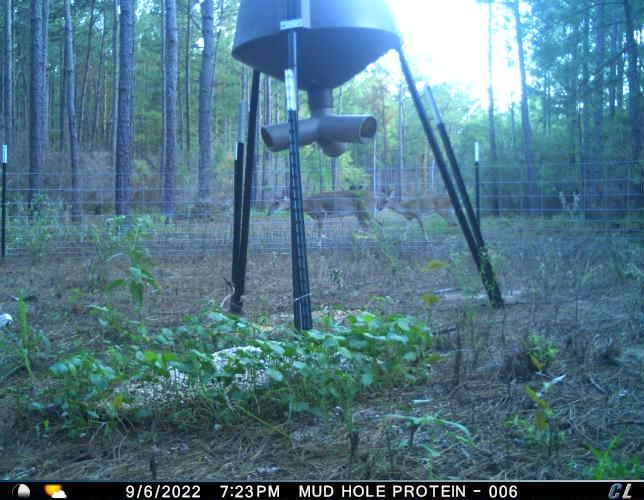Deer: (268, 182, 381, 253), (381, 187, 458, 241)
